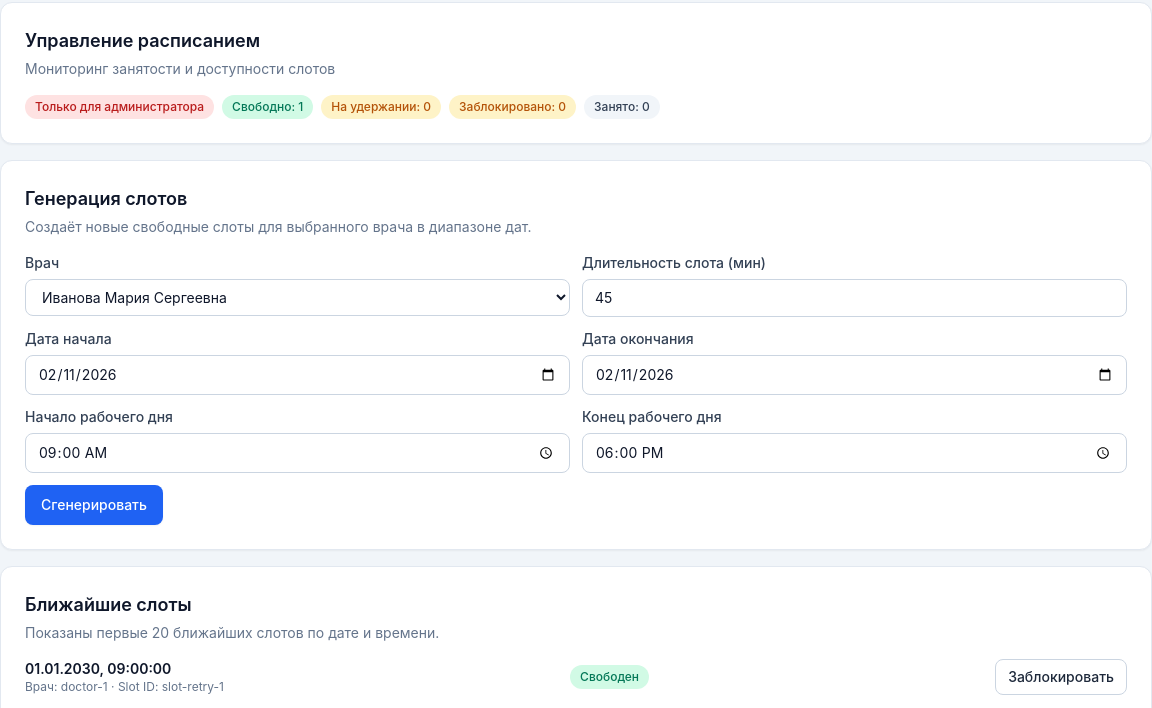
Scenario: AdminSlotsPage integration › показывает ошибку изменения статуса слота и позволяет повторить действие
(page scrolled)
Expected: the heading "Ближайшие слоты" is shown, [25,594,192,615]
Step 1. Click the button "Заблокировать" → (1061, 677), box [995,659,1127,695]
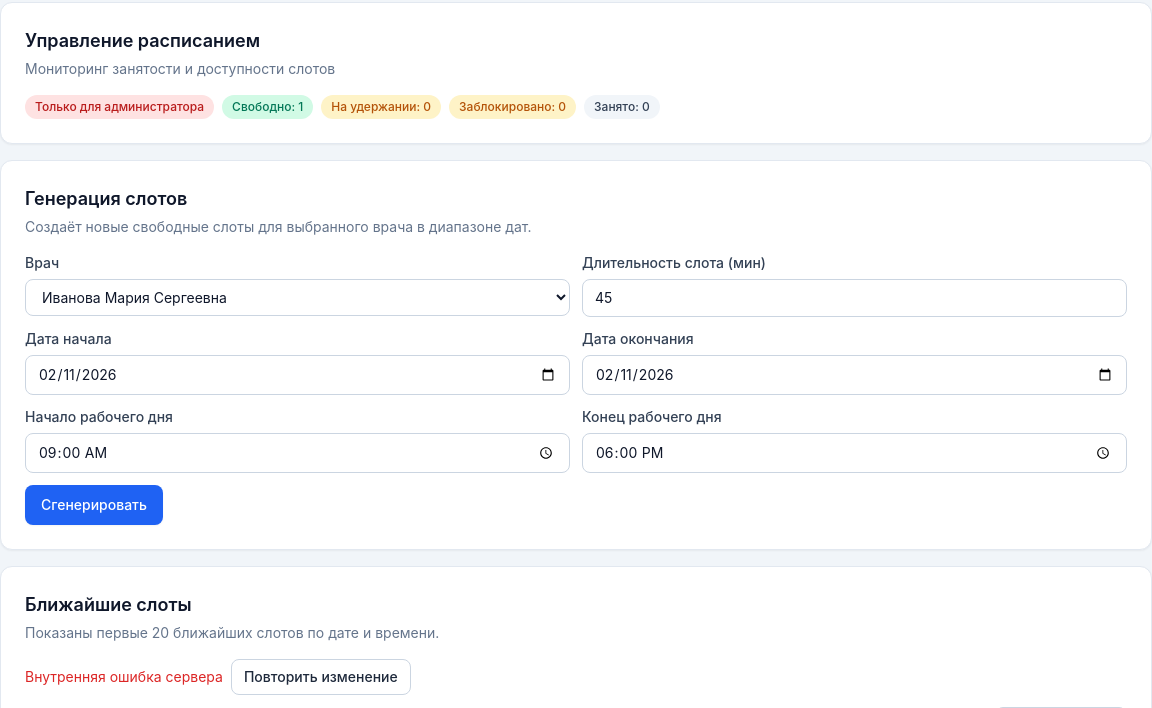
Expected: the text "Внутренняя ошибка сервера" is shown, [25,667,223,687]
Expected: the button "Повторить изменение" is shown
Step 2. Click the button "Повторить изменение" → (321, 677), box [231,659,411,695]
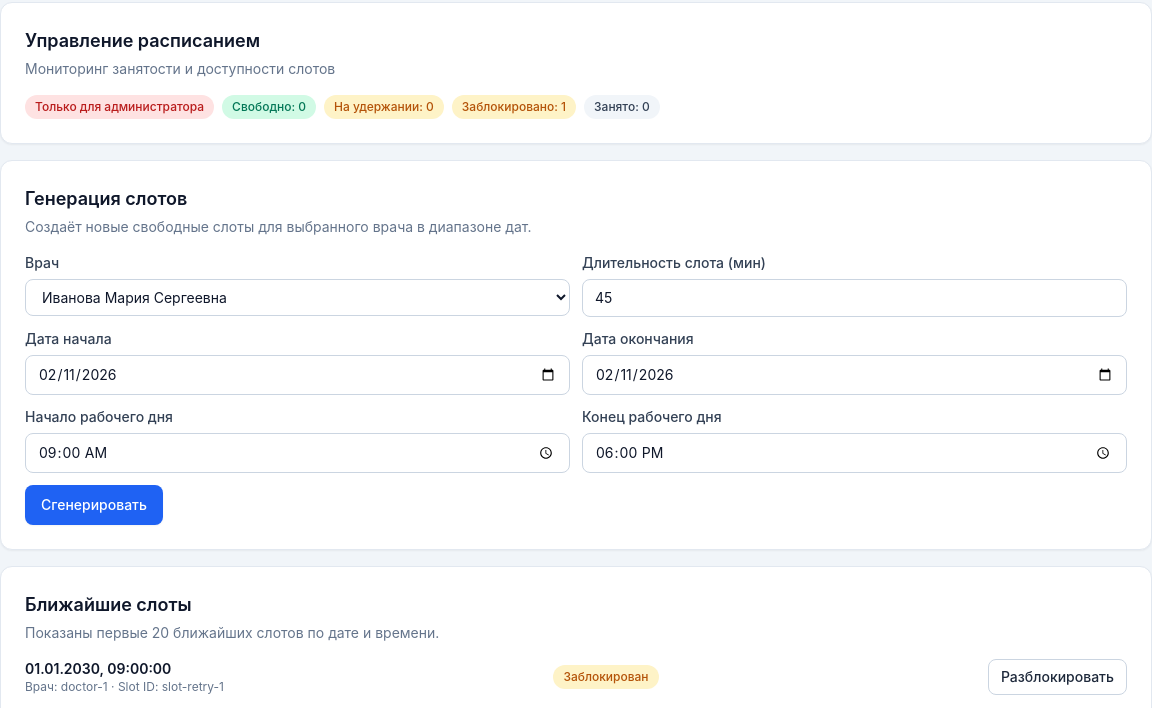
Expected: the button "Разблокировать" is shown, [988,659,1127,695]
Expected: the text "Свободно: 0" is shown, [222,95,316,119]
Expected: the text "Заблокировано: 1" is shown, [452,95,576,119]
